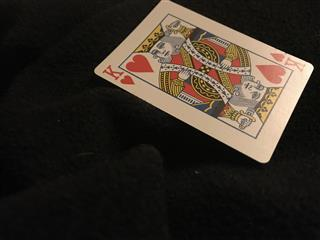KingOfHearts: (93, 1, 314, 163)
